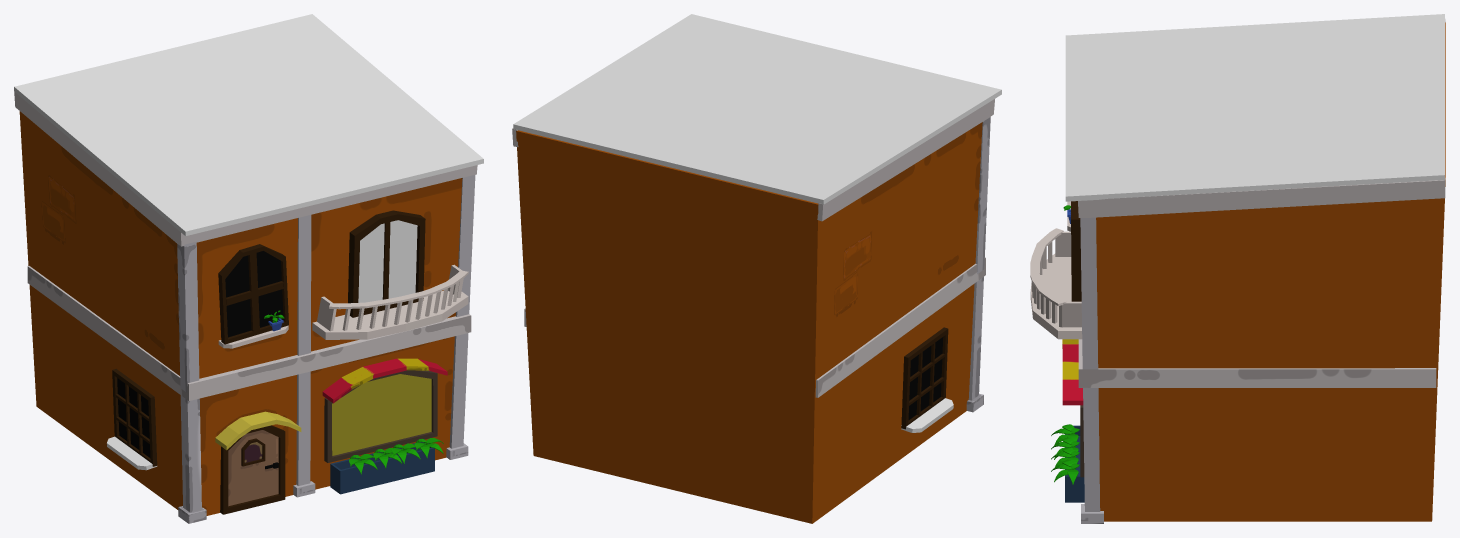
The model's file is casanaranja.fbx.
3 views of the same model, side by side, from view 1: azimuth 30°, elevation 25°; view 2: azimuth 150°, elevation 25°; view 3: azimuth 270°, elevation 25° (orthographic). The views are drawn at different scales.
Visible parts, largest first — view 1: Cube, Cube.042, Cube.018, Cube.010, Cube.017, Cube.015, Cube.011, Cube.012, Cube.002, Cube.016, Plane.001, Cube.013 (+7 smaller); view 2: Cube, Cube.042, Cube.018, Cube.026, Cube.011, Cube.012, Cube.028; view 3: Cube, Cube.042, Cube.018, Cube.011, Cube.013, Cube.001, Cube.040, Plane.001, Cube.025, Cube.017.
Boxes of the visible parts, left/top/right/bottom form: Cube: left=19, top=111, right=462, bottom=515; Cube.042: left=14, top=14, right=483, bottom=236; Cube.018: left=27, top=266, right=471, bottom=400; Cube.010: left=324, top=370, right=437, bottom=462; Cube.017: left=348, top=210, right=425, bottom=317; Cube.015: left=218, top=244, right=288, bottom=344; Cube.011: left=14, top=92, right=477, bottom=246; Cube.012: left=177, top=241, right=206, bottom=523; Cube.002: left=220, top=425, right=285, bottom=514; Cube.016: left=293, top=215, right=315, bottom=497; Plane.001: left=330, top=438, right=443, bottom=494; Cube.013: left=446, top=175, right=475, bottom=459; Cube: left=516, top=122, right=982, bottom=523; Cube.042: left=513, top=14, right=1001, bottom=204; Cube.018: left=524, top=257, right=985, bottom=397; Cube.026: left=901, top=327, right=948, bottom=429; Cube.011: left=512, top=99, right=994, bottom=221; Cube.012: left=966, top=117, right=990, bottom=412; Cube.028: left=901, top=398, right=953, bottom=432; Cube: left=1096, top=22, right=1445, bottom=521; Cube.042: left=1065, top=14, right=1444, bottom=201; Cube.018: left=1078, top=339, right=1436, bottom=387; Cube.011: left=1078, top=19, right=1445, bottom=217; Cube.013: left=1080, top=217, right=1103, bottom=523; Cube.001: left=1030, top=228, right=1081, bottom=327; Cube.040: left=1030, top=253, right=1082, bottom=339; Plane.001: left=1051, top=424, right=1084, bottom=502; Cube.025: left=1062, top=339, right=1083, bottom=405; Cube.017: left=1071, top=201, right=1081, bottom=301.
Size of the model in its own units: 954 by 972 by 1034.
